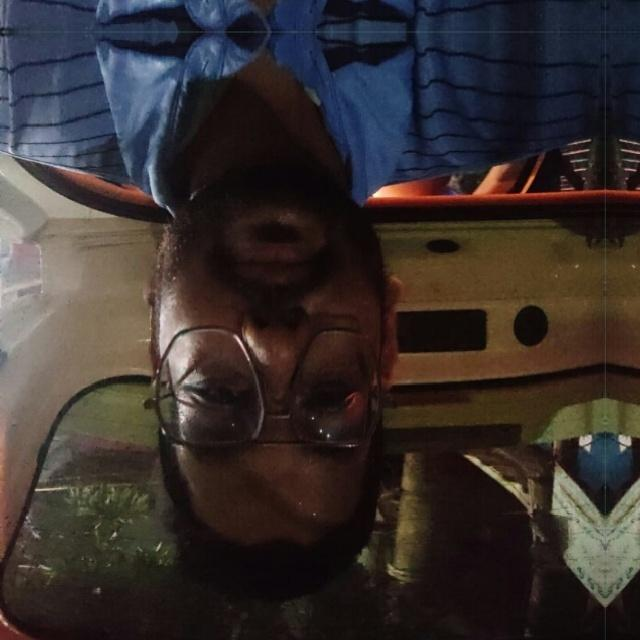Happy: (92, 106, 442, 554)
